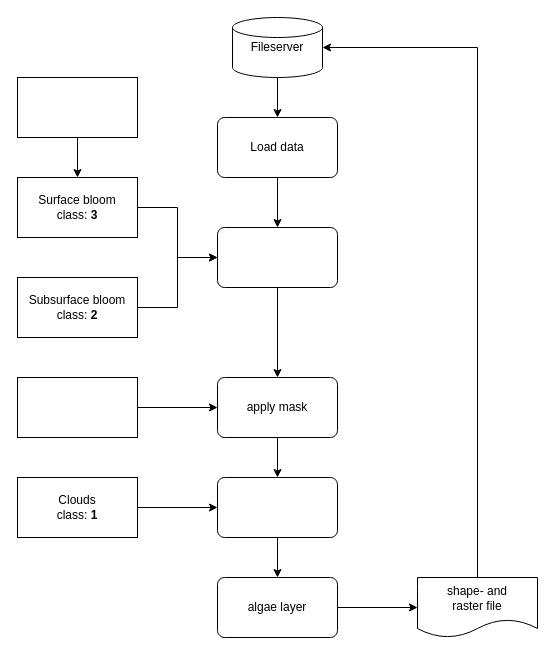
This 555x655 diagram has some shape labels left out. Each missing label, with the centre of its shape:
"add clouds" belongs at (277,507).
"Coastal zone mask" belongs at (77,407).
"compute_classes" belongs at (277,257).
"Extreme bloom" belongs at (77,107).
